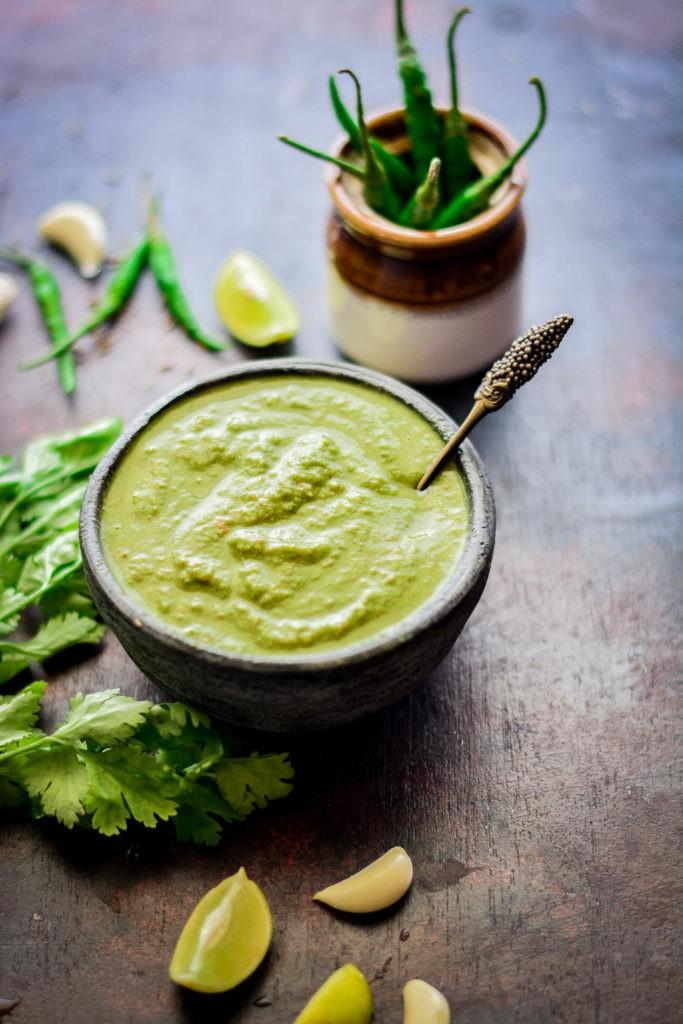GreenChutney: (97, 379, 470, 663)
